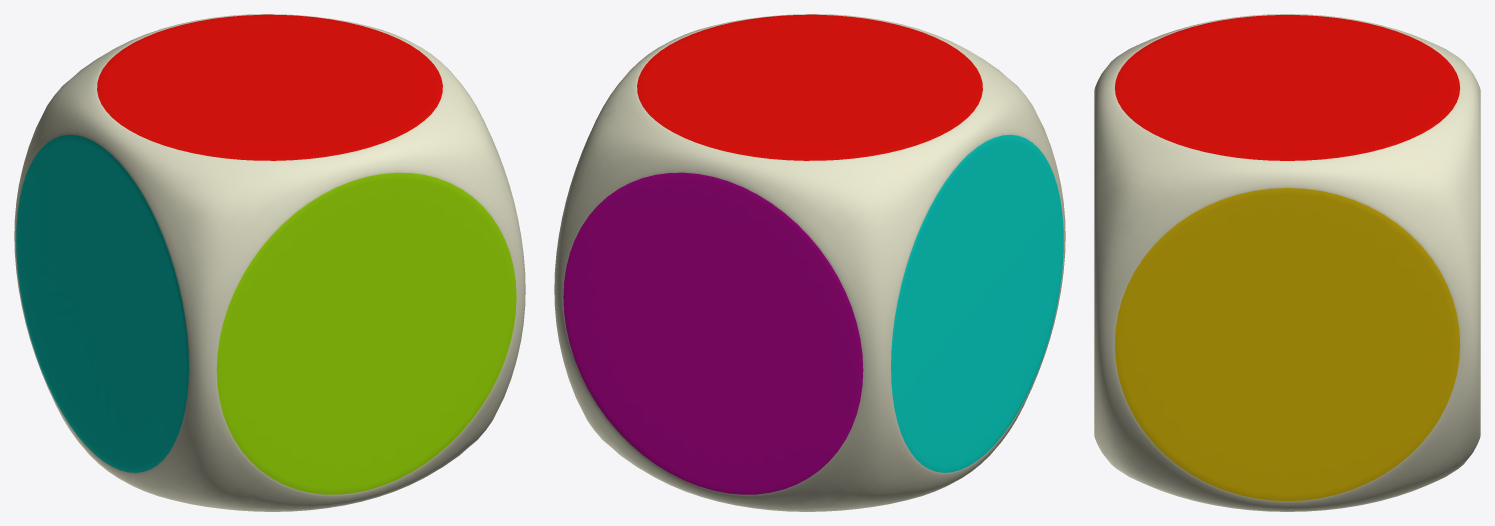
Rendered from dice_001.glb.
3 renders of one model, left to right at view 1: azimuth 30°, elevation 25°; view 2: azimuth 150°, elevation 25°; view 3: azimuth 270°, elevation 25°, orthographic.
Visible parts, largest first — view 1: Cylinder.002; view 2: Cylinder.002; view 3: Cylinder.002.
Boxes of the visible parts, box(x1,y1,x2,y2) form: Cylinder.002: box(14, 14, 525, 511); Cylinder.002: box(554, 14, 1065, 511); Cylinder.002: box(1094, 14, 1480, 511).
Bounding box in the file's own units: 2 × 2 × 2.
